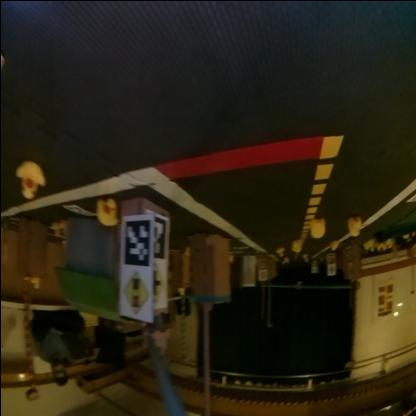Duckie: (14, 162, 43, 200), (94, 198, 116, 226), (345, 216, 361, 236), (310, 218, 324, 238), (290, 238, 301, 252), (276, 249, 282, 257)
Intersection sign: (150, 263, 162, 305)
QR code: (123, 218, 149, 266), (151, 216, 166, 260)
Signal sign: (122, 271, 146, 315)
